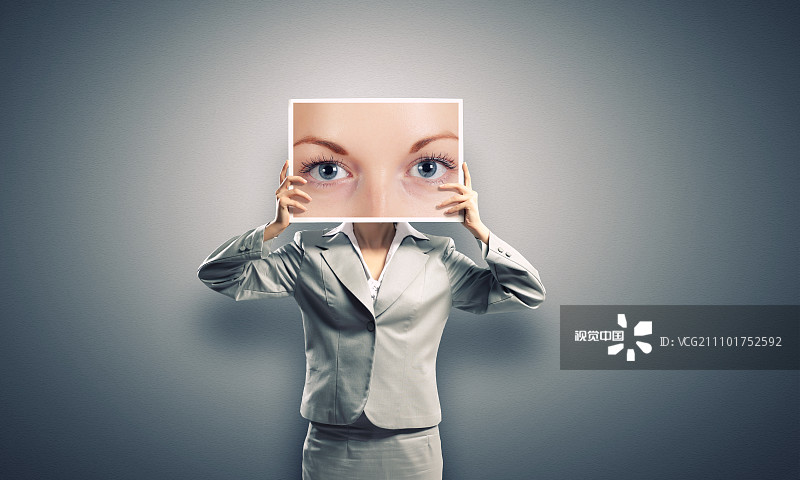no-phone: (264, 150, 314, 239), (434, 155, 483, 236)
